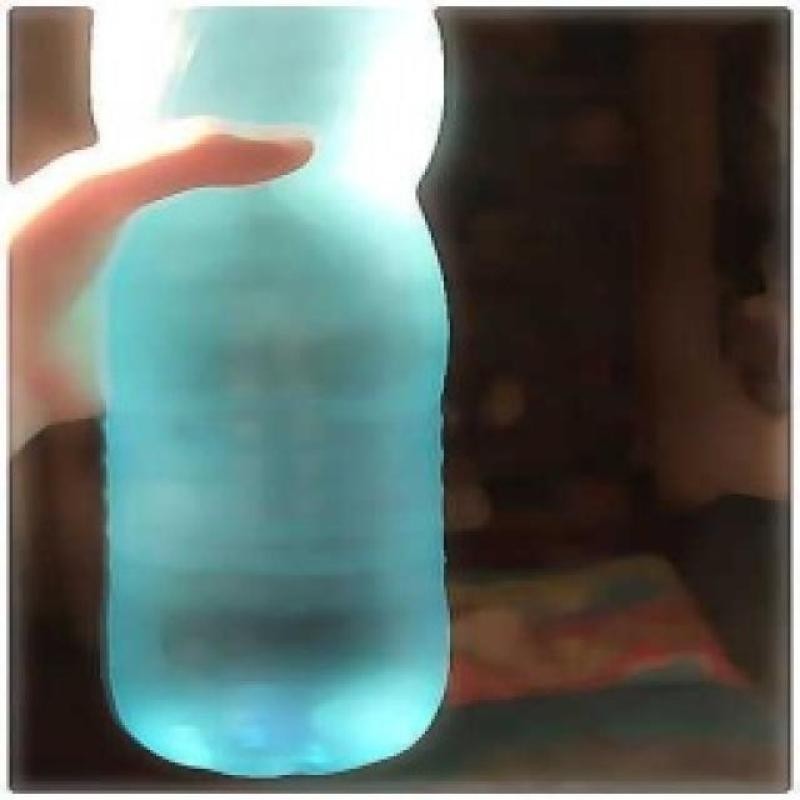botella: (89, 0, 455, 775)
